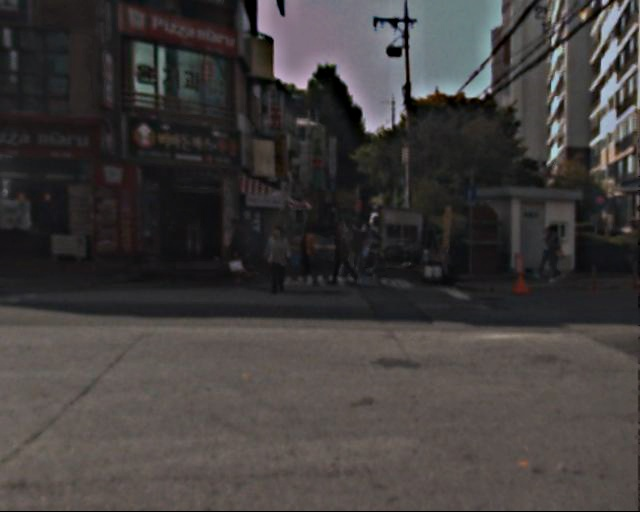person: (228, 214, 257, 284), (337, 222, 363, 285), (267, 223, 293, 286), (542, 223, 567, 284), (297, 221, 319, 274), (361, 218, 386, 259), (362, 237, 382, 286)
